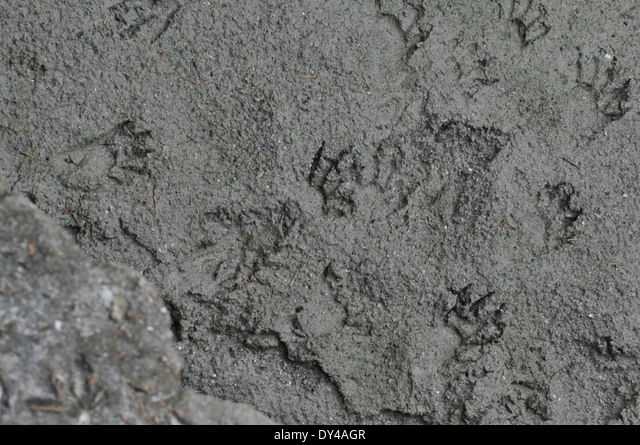raccoon: (553, 46, 640, 154), (269, 142, 381, 225), (522, 171, 599, 263), (427, 273, 517, 351), (491, 2, 564, 53)
